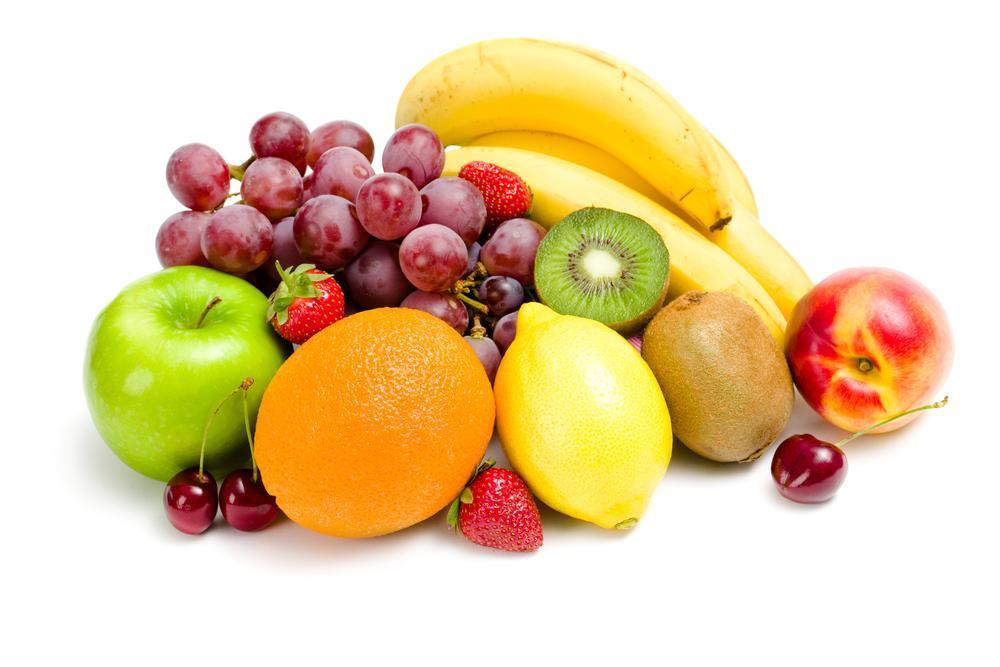apple: (84, 263, 292, 482)
